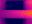Hotspot: (27, 10, 31, 16)
